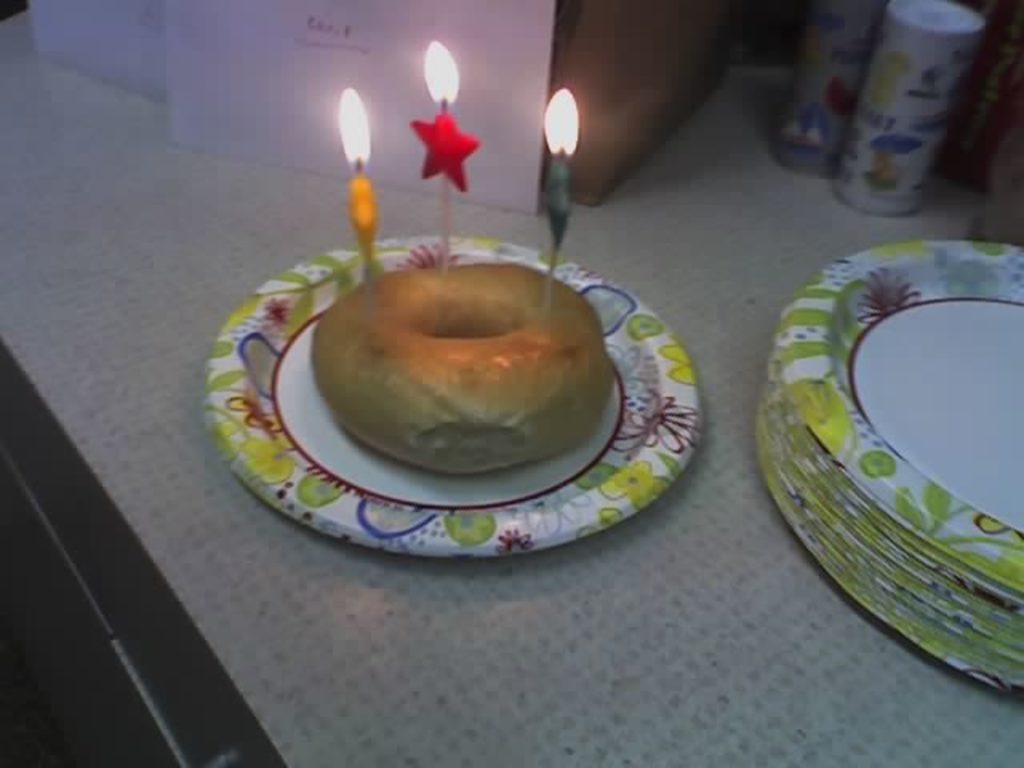plate: (772, 228, 1023, 646)
